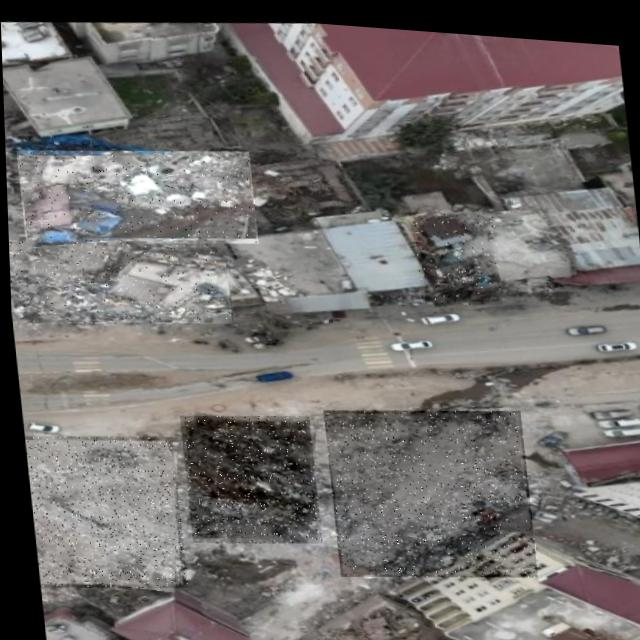Rubble: (318, 391, 533, 583), (13, 134, 257, 256), (20, 425, 183, 595), (7, 225, 229, 335), (174, 403, 317, 548), (410, 201, 499, 302)
